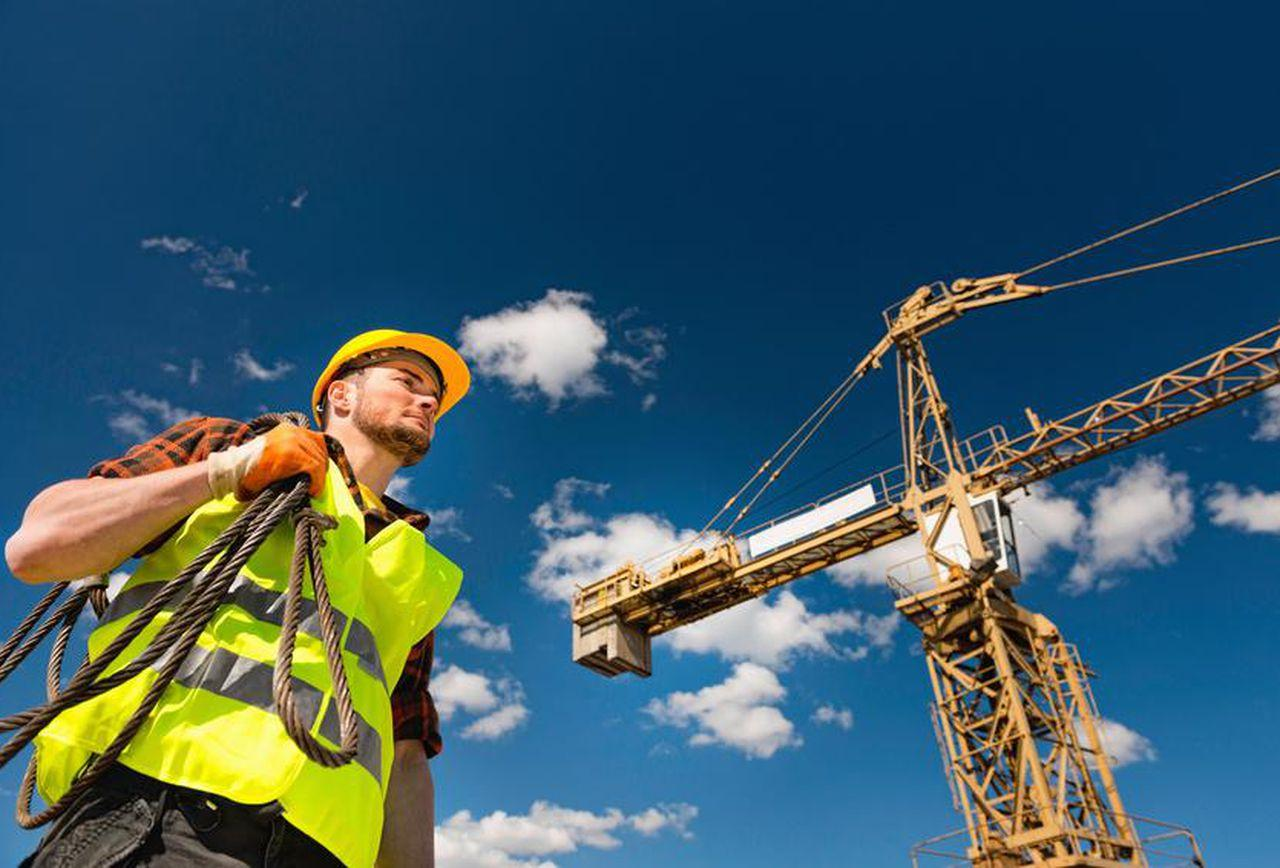helmet: (307, 329, 467, 425)
